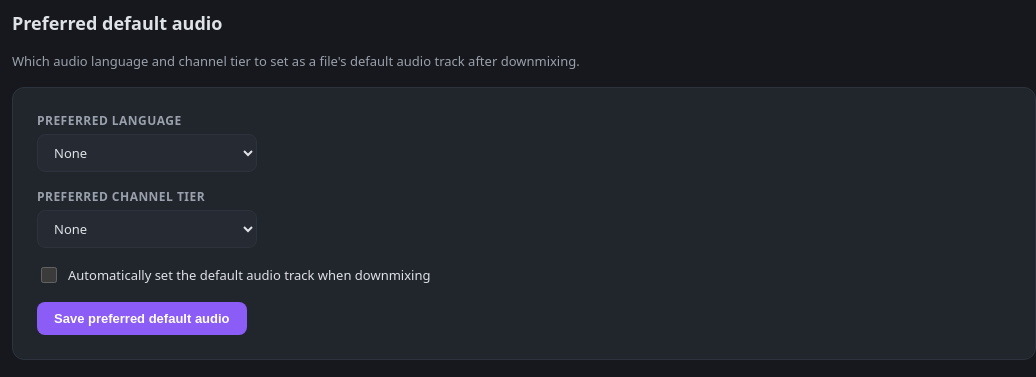
it: DefaultAudioSection › enables the auto-set checkbox once both language and channel tier are set, and saves via PUT
This screenshot has width=1036, height=377.
Check: the checkbox labelled "Automatically set the default audio track when downmixing" is disabled, box top-left (41, 267), bottom-right (57, 283)
Select "English (eng)" in the dropdown labelled "Preferred language": (147, 153) top-left (37, 134), bottom-right (257, 172)
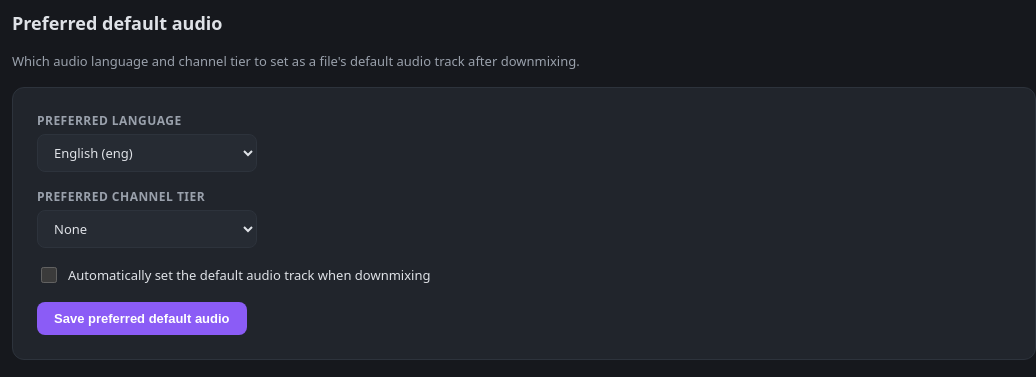
Check: the checkbox labelled "Automatically set the default audio track when downmixing" is disabled, box top-left (41, 267), bottom-right (57, 283)
Select "5.1" in the dropdown labelled "Preferred channel tier": (147, 229) top-left (37, 210), bottom-right (257, 248)
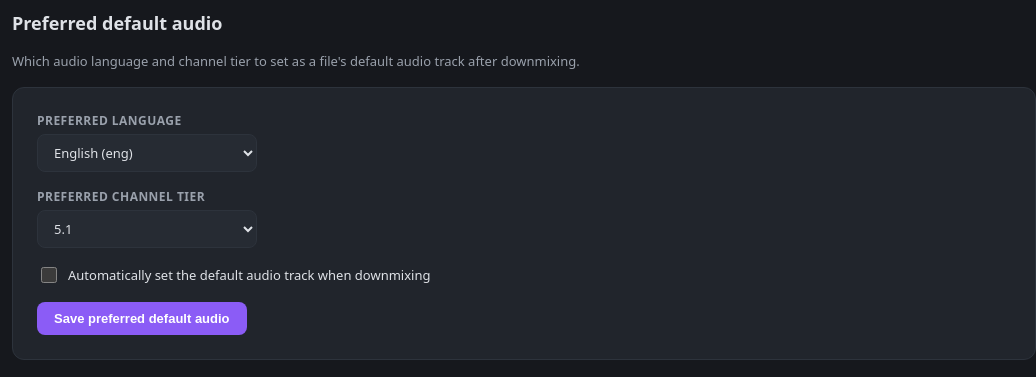
Check: the checkbox labelled "Automatically set the default audio track when downmixing" is enabled
Click the checkbox labelled "Automatically set the default audio track when downmixing": (49, 275) top-left (41, 267), bottom-right (57, 283)
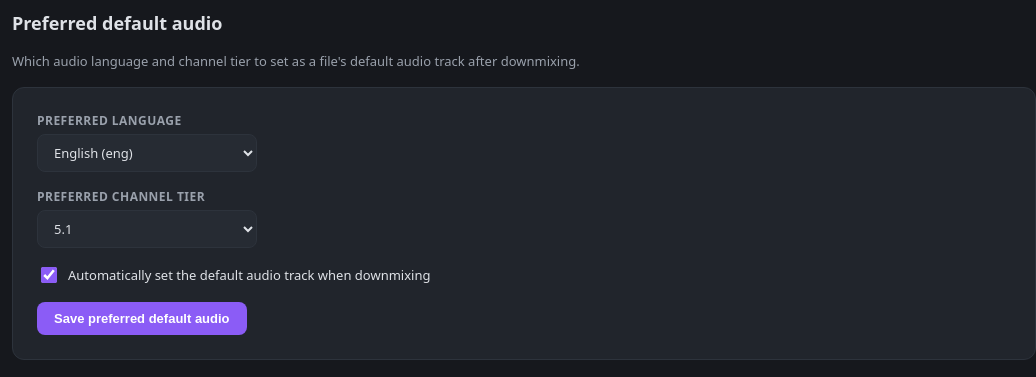
Check: the checkbox labelled "Automatically set the default audio track when downmixing" is checked, box top-left (41, 267), bottom-right (57, 283)
Click the button "Save preferred default audio": (142, 319) top-left (37, 302), bottom-right (247, 335)
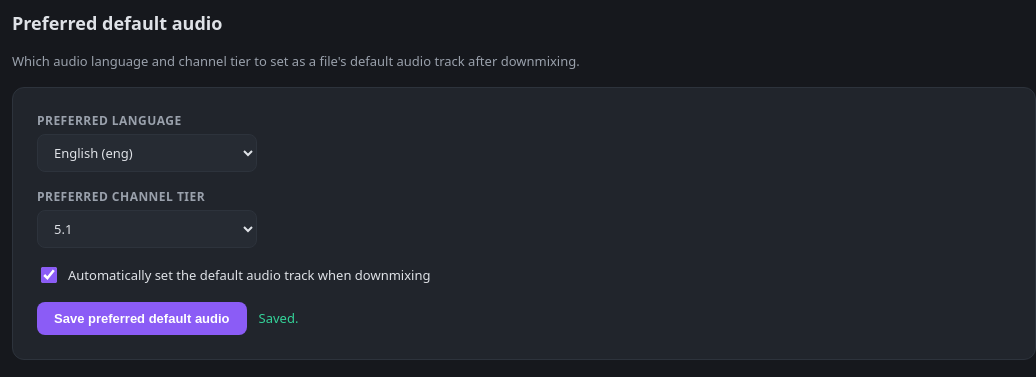
Check: the checkbox labelled "Automatically set the default audio track when downmixing" is checked, box top-left (41, 267), bottom-right (57, 283)
Check: the text "Saved." is shown, box top-left (259, 309), bottom-right (298, 329)
